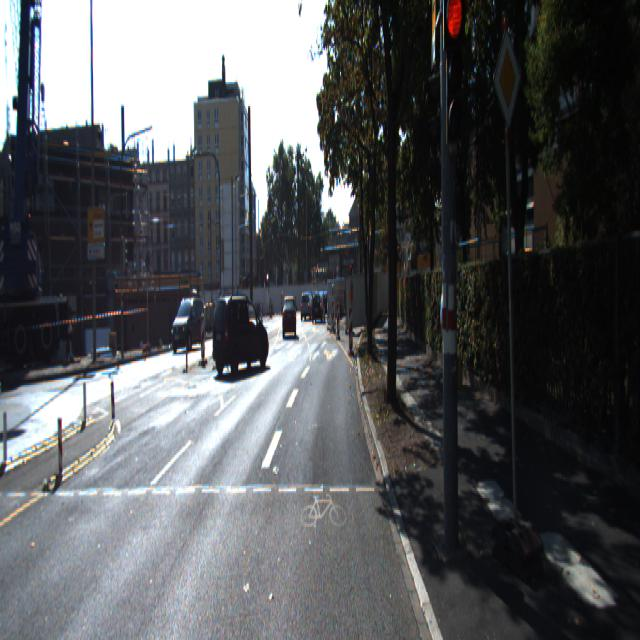Car: (209, 289, 271, 375), (170, 291, 205, 349), (281, 289, 295, 334)
